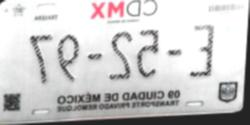License_Plate: (0, 0, 247, 120)
